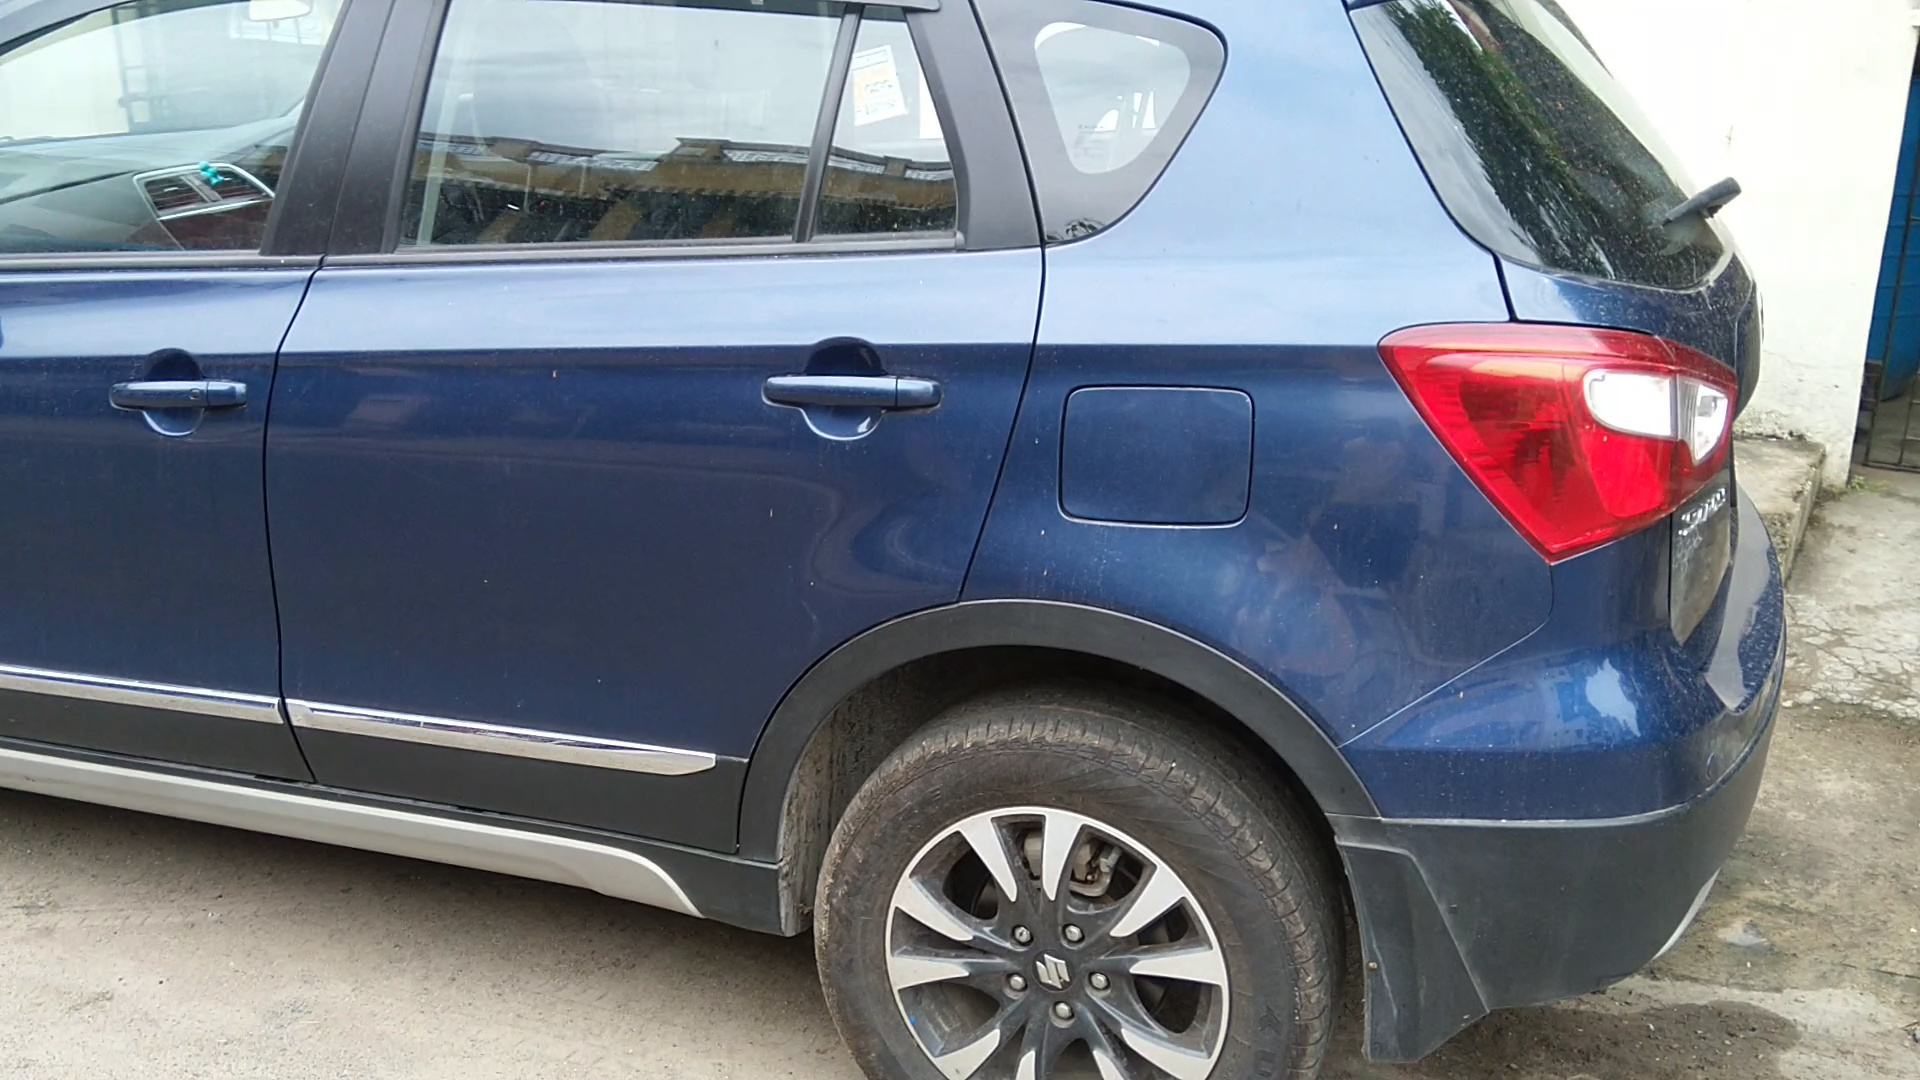alloy_wheel: (841, 735, 1332, 1080)
